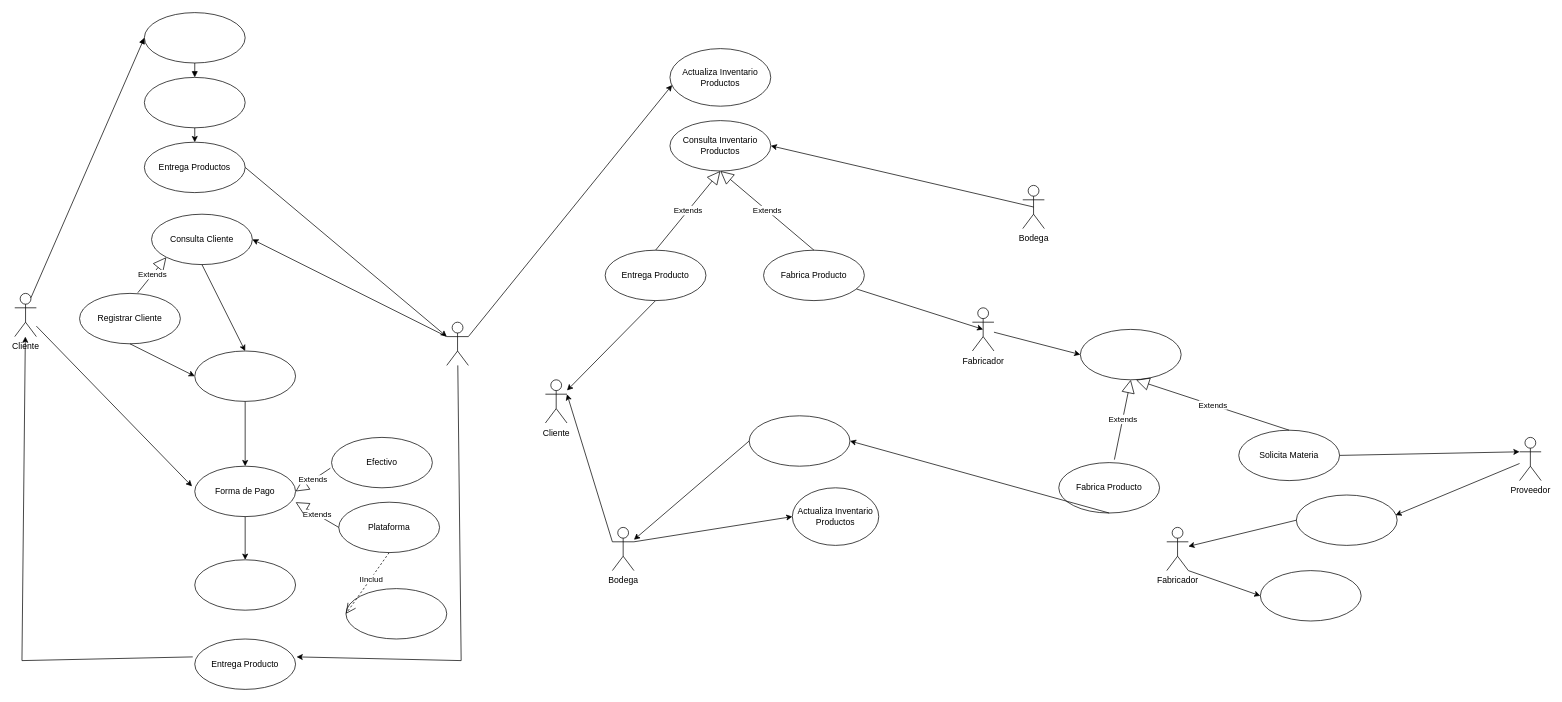
This 1562x702 diagram has some shape labels left out. The shapes that lost their labels are listed below. From the top down, each one's centre as x and y in pixels, then its label:
(194,37): Busca Producto
(194,102): Selecciona Producto
(457,343): Caja
(1130,354): Consulta Inventario Materia Prima
(245,375): Registra Pedido
(799,440): Entrega Bodega
(1346,519): Entrega Materiales
(245,584): Genera Venta
(1310,595): Actualiza Inventario Materias Primas
(396,613): Confirmar
